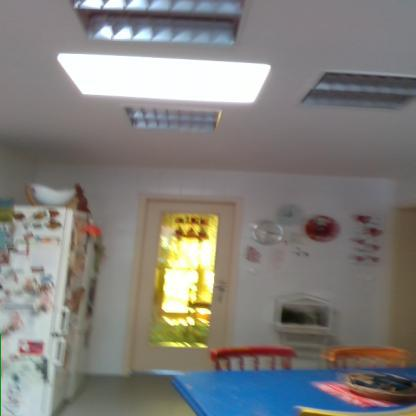door: (144, 198, 233, 370)
lever: (209, 282, 230, 290)
